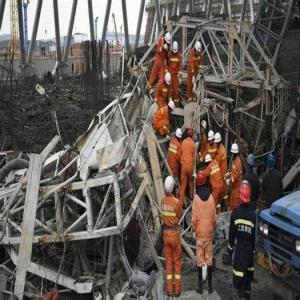blue: (267, 153, 276, 171), (247, 154, 256, 170)
red: (239, 179, 253, 206), (197, 170, 208, 192), (187, 126, 194, 140)
white: (165, 174, 177, 198), (215, 131, 223, 149), (231, 143, 239, 160), (208, 130, 216, 147), (165, 31, 173, 47), (205, 153, 213, 168), (168, 100, 176, 115), (176, 128, 184, 143), (195, 41, 202, 58), (200, 119, 207, 135), (165, 71, 172, 87), (173, 41, 180, 55)
